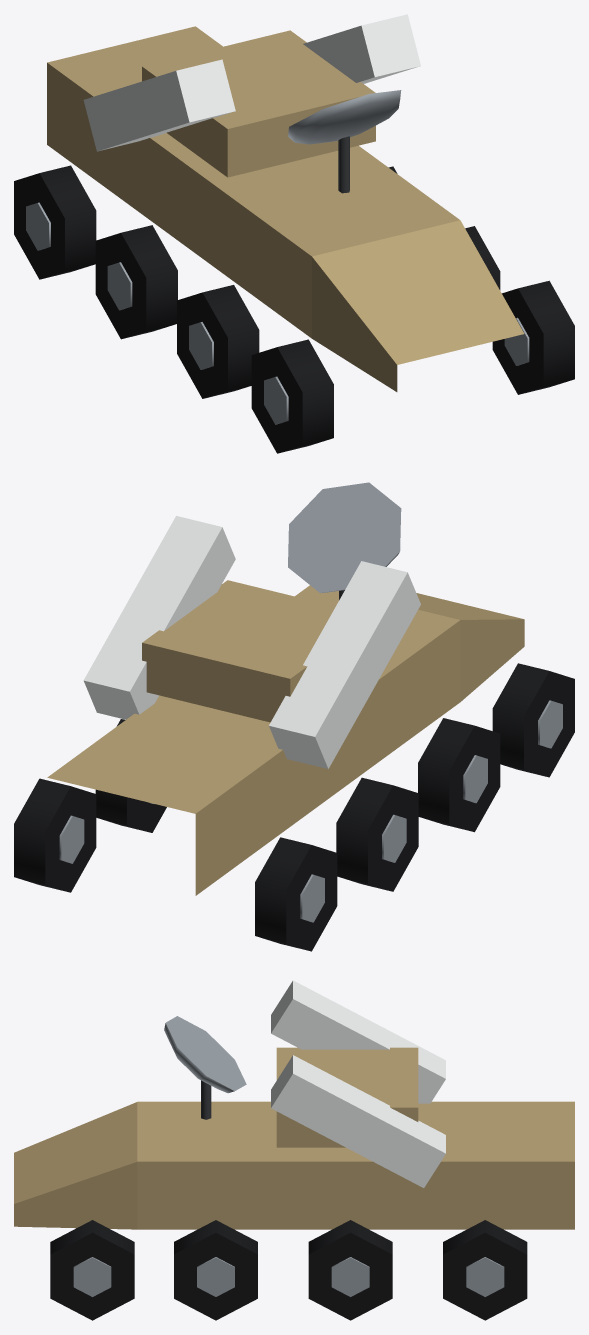
Rendered from veh_ground_aa_wheeled_a07_lod1.glb.
The picture shows the model from 3 angles, top to bottom: view 1: azimuth 30°, elevation 25°; view 2: azimuth 150°, elevation 25°; view 3: azimuth 270°, elevation 25°; orthographic projection. The views are drawn at different scales.
Parts seen in each view (by area): view 1: body, turret, wheel_6, wheel_0, wheel_2, wheel_4, wheel_7, radar, wheel_5; view 2: turret, body, radar, wheel_4, wheel_0, wheel_1, wheel_2, wheel_6, wheel_3; view 3: body, turret, wheel_3, wheel_1, wheel_7, wheel_5, radar.
Part boxes in pixels (x1,y1,x2,y2): body: (47, 26, 524, 391); turret: (83, 14, 420, 177); wheel_6: (251, 339, 333, 453); wheel_0: (14, 165, 96, 279); wheel_2: (95, 225, 177, 339); wheel_4: (177, 285, 259, 398); wheel_7: (492, 280, 574, 394); radar: (288, 90, 401, 193); wheel_5: (465, 226, 500, 290); turret: (83, 516, 420, 768); body: (47, 585, 524, 895); radar: (288, 482, 401, 600); wheel_4: (418, 718, 500, 832); wheel_0: (255, 837, 337, 951); wheel_1: (14, 778, 96, 892); wheel_2: (336, 777, 418, 891); wheel_6: (492, 663, 574, 777); wheel_3: (95, 719, 166, 832); body: (14, 1101, 574, 1229); turret: (271, 980, 445, 1187); wheel_3: (308, 1220, 392, 1320); wheel_1: (443, 1220, 527, 1320); wheel_7: (50, 1220, 134, 1320); wheel_5: (174, 1220, 257, 1320); radar: (164, 1016, 246, 1119).
Bounding box in the file's own units: 2.98 × 3.04 × 6.35.
